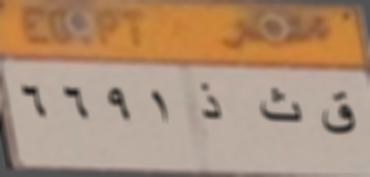1: (144, 81, 176, 134)
6: (12, 84, 56, 123), (62, 84, 96, 122)
9: (104, 87, 136, 126)
qaaf: (318, 83, 360, 147)
thaa: (248, 80, 307, 133)
zaal: (190, 79, 230, 124)
